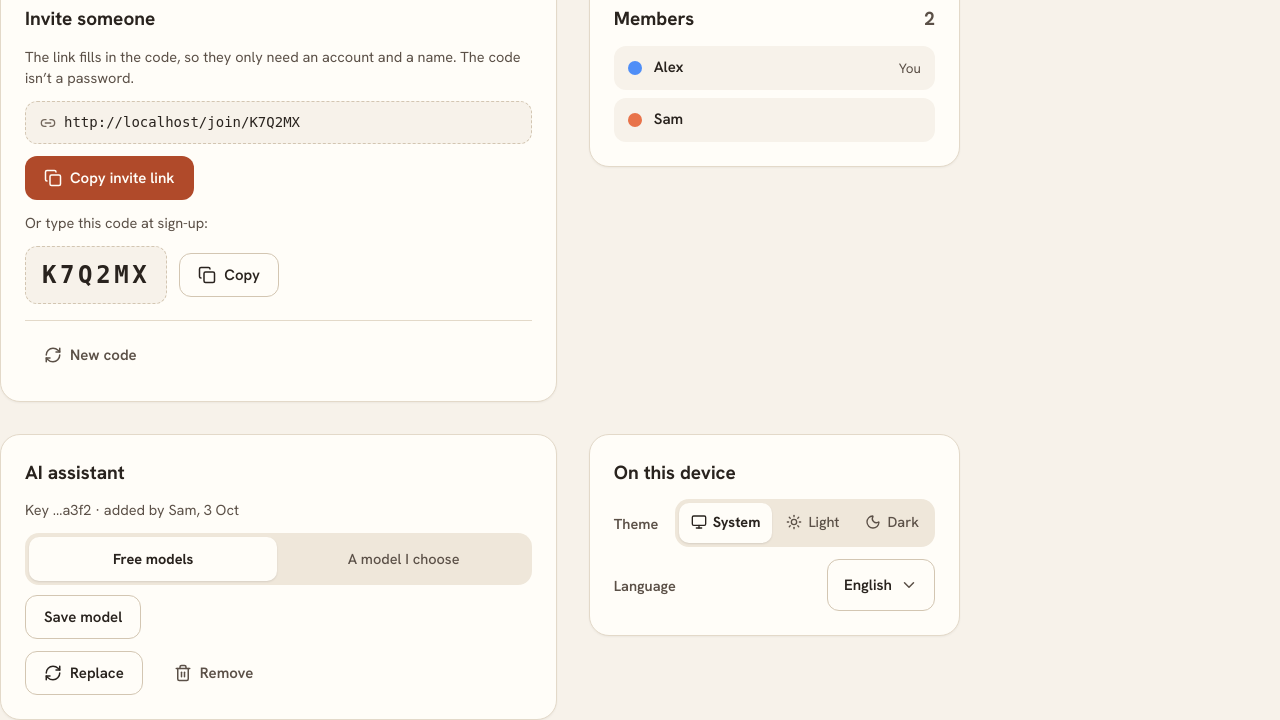
when the status is not known › does not fall back to the no-key layout when the refresh after removing the key fails
(page scrolled)
Click the button "Remove".
click(214, 673)  # box [155, 651, 272, 695]
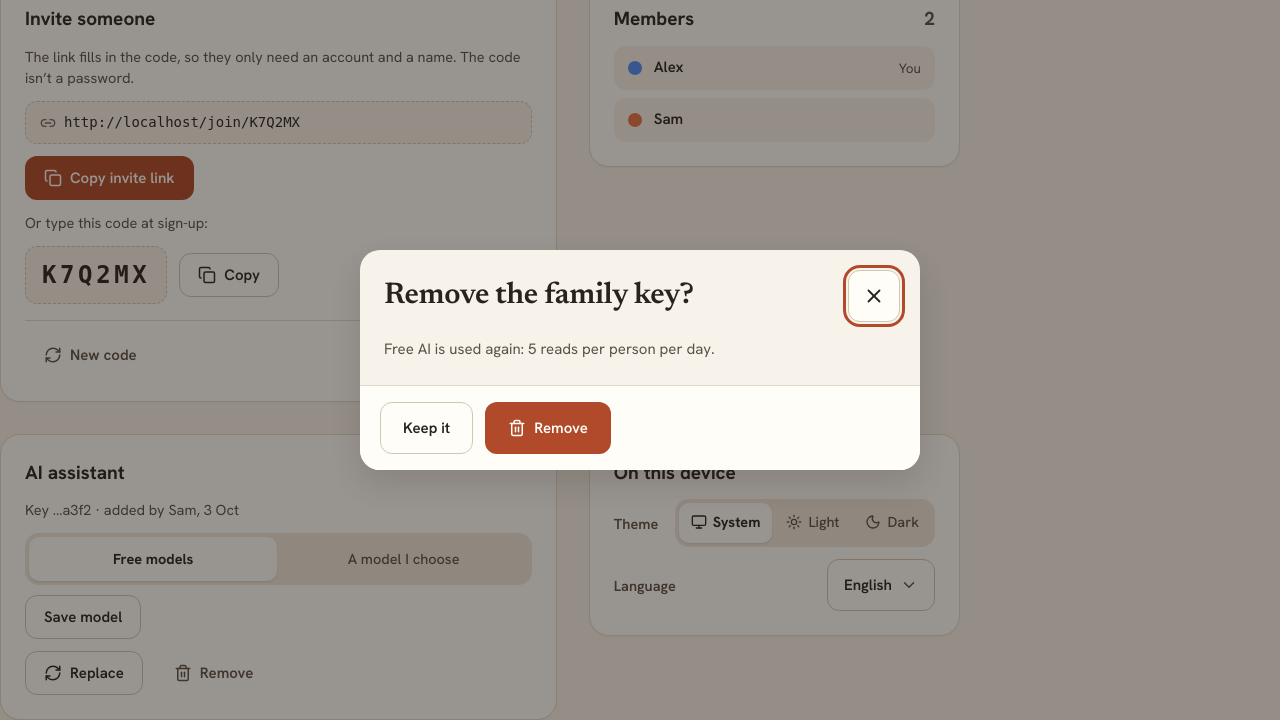
Click the button "Remove".
click(548, 428)  # box [485, 402, 611, 454]
(page scrolled)
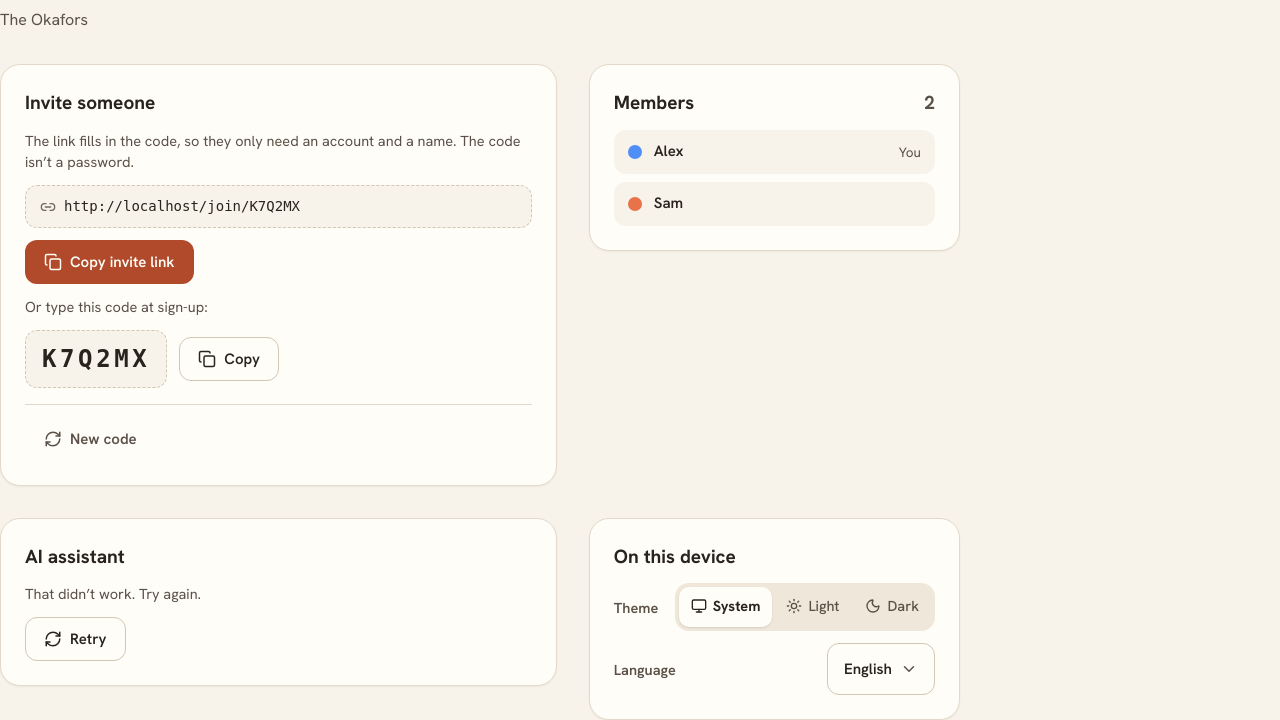
Now the element showing "AI assistant That didn’t work. Try again. Retry" is shown, box [0, 518, 557, 686]
Now the button "Save model" is gone
